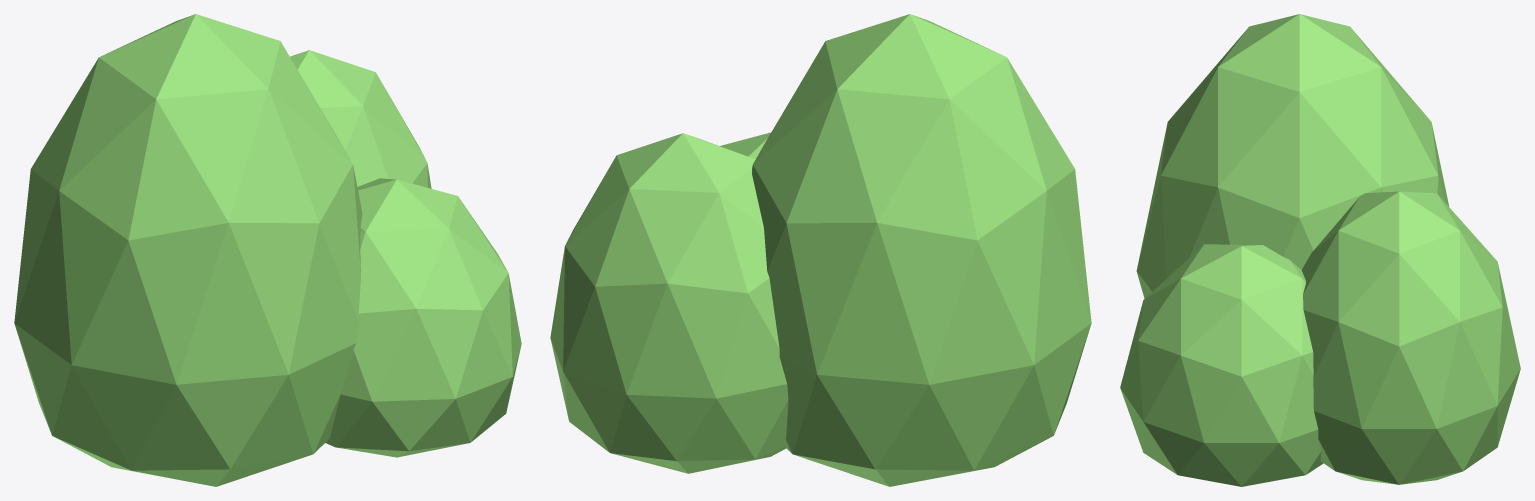
The model's file is Bush1.fbx.
The picture shows the model from 3 angles, left to right: view 1: azimuth 30°, elevation 25°; view 2: azimuth 150°, elevation 25°; view 3: azimuth 270°, elevation 25°; orthographic projection. The views are drawn at different scales.
Visible parts, largest first — view 1: Bush, Bush.002, Bush.001; view 2: Bush, Bush.001, Bush.002; view 3: Bush.001, Bush, Bush.002.
Boxes of the visible parts, x1=… form: Bush: x1=14, y1=14, x2=362, y2=486; Bush.002: x1=325, y1=178, x2=521, y2=457; Bush.001: x1=290, y1=50, x2=431, y2=188; Bush: x1=752, y1=14, x2=1091, y2=486; Bush.001: x1=550, y1=133, x2=788, y2=473; Bush.002: x1=720, y1=132, x2=770, y2=159; Bush.001: x1=1301, y1=191, x2=1520, y2=484; Bush: x1=1136, y1=14, x2=1449, y2=298; Bush.002: x1=1120, y1=244, x2=1323, y2=486.
Size of the model in its own units: 423 by 419 by 385.
